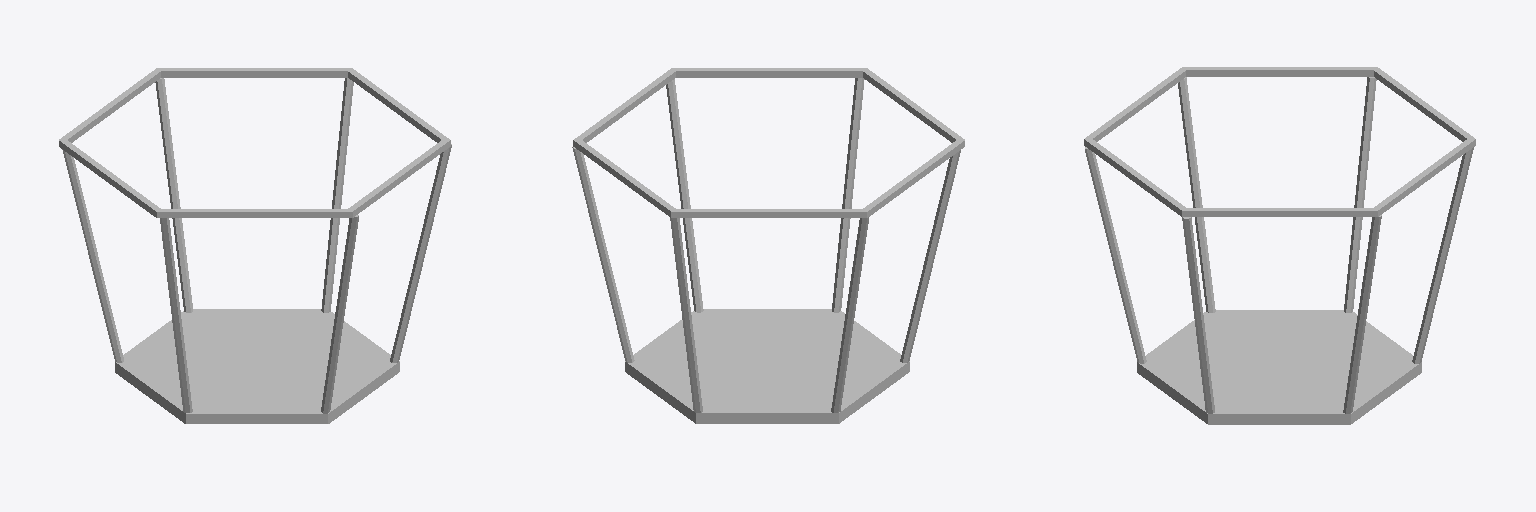
Rendered from basket-pipe.obj.
3 views of the same model, side by side, from view 1: azimuth 30°, elevation 25°; view 2: azimuth 150°, elevation 25°; view 3: azimuth 270°, elevation 25° (orthographic).
Parts seen in each view (by area): view 1: Circle.008_Circle.014; view 2: Circle.008_Circle.014; view 3: Circle.008_Circle.014.
Boxes of the visible parts, x1=… form: Circle.008_Circle.014: x1=59, y1=68, x2=451, y2=423; Circle.008_Circle.014: x1=572, y1=68, x2=964, y2=423; Circle.008_Circle.014: x1=1084, y1=67, x2=1475, y2=424.
Size of the model in its own units: 1.44 by 1.08 by 1.65.